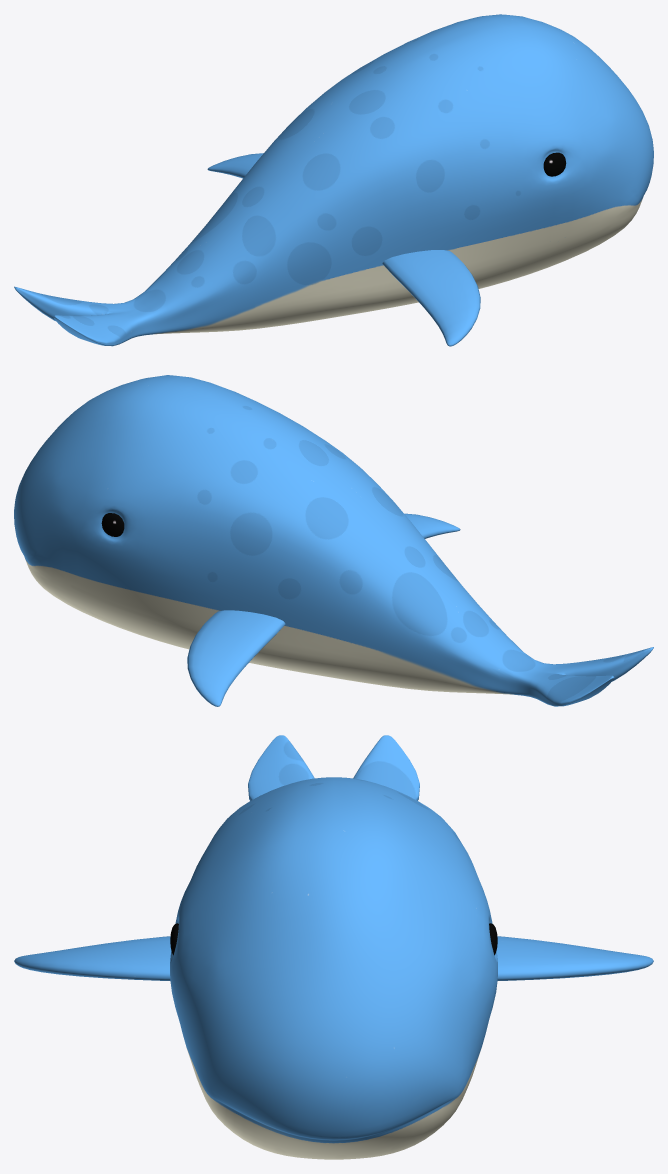
File: wale.gltf
3 views of the same model, one above another, from view 1: azimuth 30°, elevation 25°; view 2: azimuth 150°, elevation 25°; view 3: azimuth 270°, elevation 25° (orthographic). The views are drawn at different scales.
Visible parts, largest first — view 1: Cube.002; view 2: Cube.002; view 3: Cube.002.
Boxes of the visible parts, left/top/right/bottom form: Cube.002: left=14, top=14, right=653, bottom=346; Cube.002: left=14, top=375, right=653, bottom=706; Cube.002: left=14, top=735, right=653, bottom=1159.
Bounding box in the file's own units: 11.62 × 4.48 × 8.07.
1 material, 1 textured.
